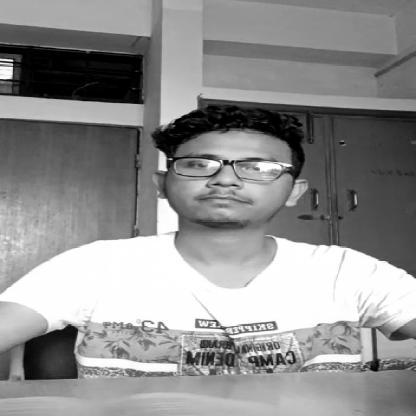Normal: (167, 113, 306, 229)
